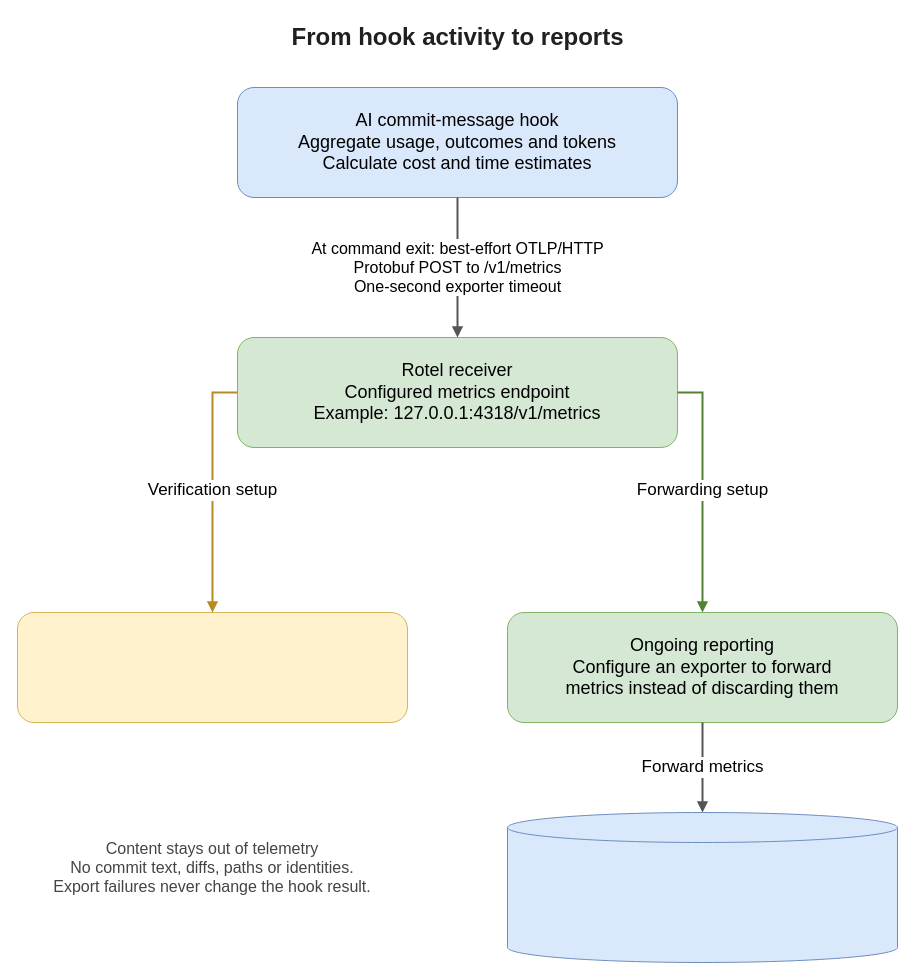
Some shapes in this 915 by 980 pixel diagram are drawn without their labels. The box of each missing label's shape, as (x1, y1, x2, y2) in pixels:
Local verification Detailed debug output blackhole discards the metrics: (16, 612, 408, 722)
Metrics backend Accepts delta metrics Stores history for reports / dashboards: (506, 812, 898, 962)
